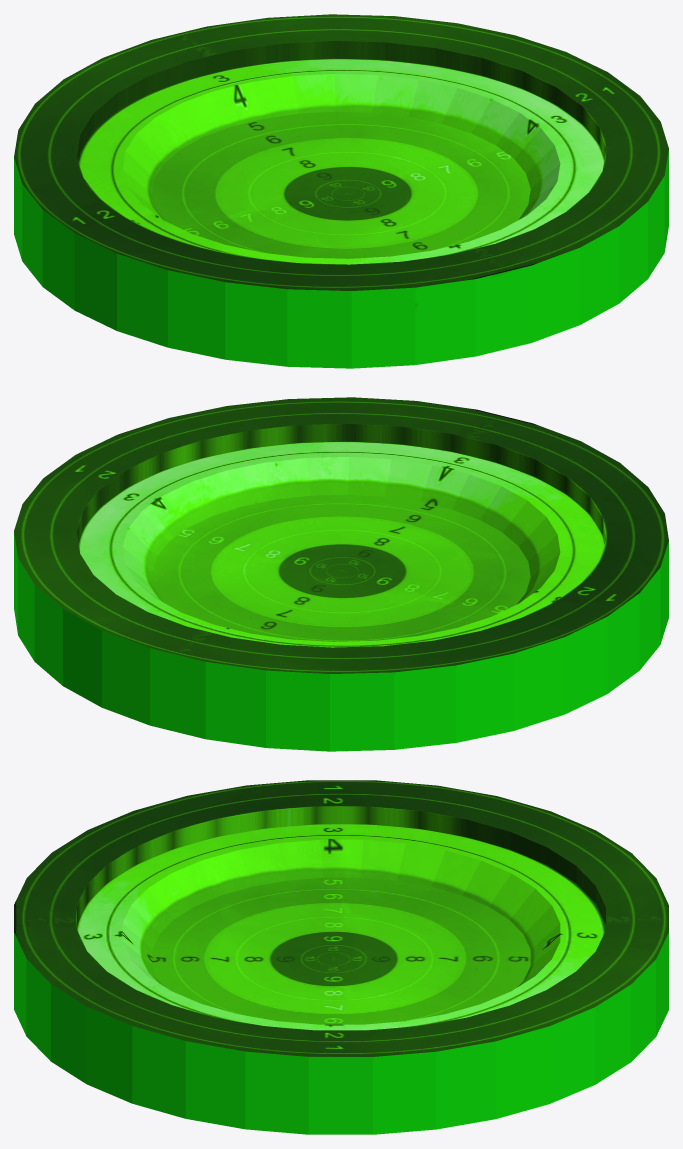
Rendered from aim.glb.
3 views of the same model, one above another, from view 1: azimuth 30°, elevation 25°; view 2: azimuth 150°, elevation 25°; view 3: azimuth 270°, elevation 25° (orthographic).
Visible parts, largest first — view 1: Cylinder; view 2: Cylinder; view 3: Cylinder.
Boxes of the visible parts, <box> form: Cylinder: <box>14,14,668,368</box>; Cylinder: <box>14,397,668,751</box>; Cylinder: <box>14,780,668,1134</box>.
Bounding box in the file's own units: 1.99 × 0.261 × 1.99.
Materials: 1 (1 with a texture image).
